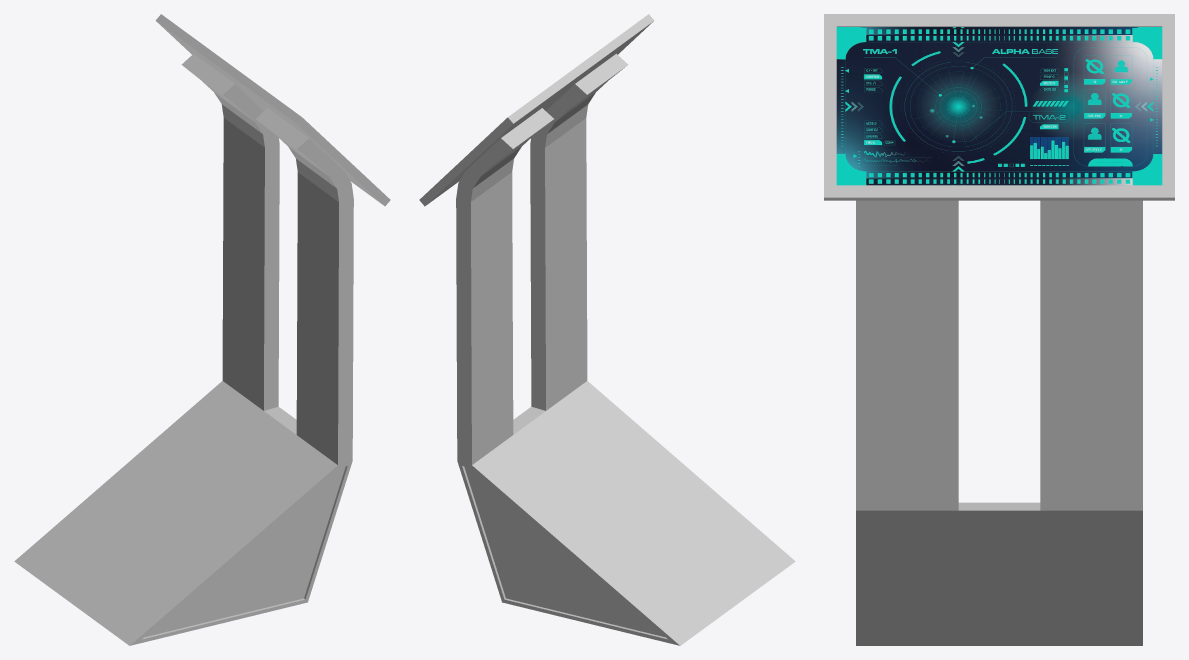
File: Scifi terminal_textured.fbx
The picture shows the model from 3 angles, left to right: view 1: azimuth 30°, elevation 25°; view 2: azimuth 150°, elevation 25°; view 3: azimuth 270°, elevation 25°; orthographic projection. The views are drawn at different scales.
Visible parts, largest first — view 1: LP, LP.001; view 2: LP, LP.001; view 3: LP, LP.002.
Boxes of the visible parts, bbox=[...] form: LP: bbox=[14, 14, 390, 645]; LP.001: bbox=[130, 53, 353, 645]; LP: bbox=[419, 14, 795, 645]; LP.001: bbox=[456, 53, 679, 645]; LP: bbox=[824, 14, 1174, 645]; LP.002: bbox=[836, 27, 1162, 185].
Size of the model in its own units: 34.65 by 66.54 by 34.09.
